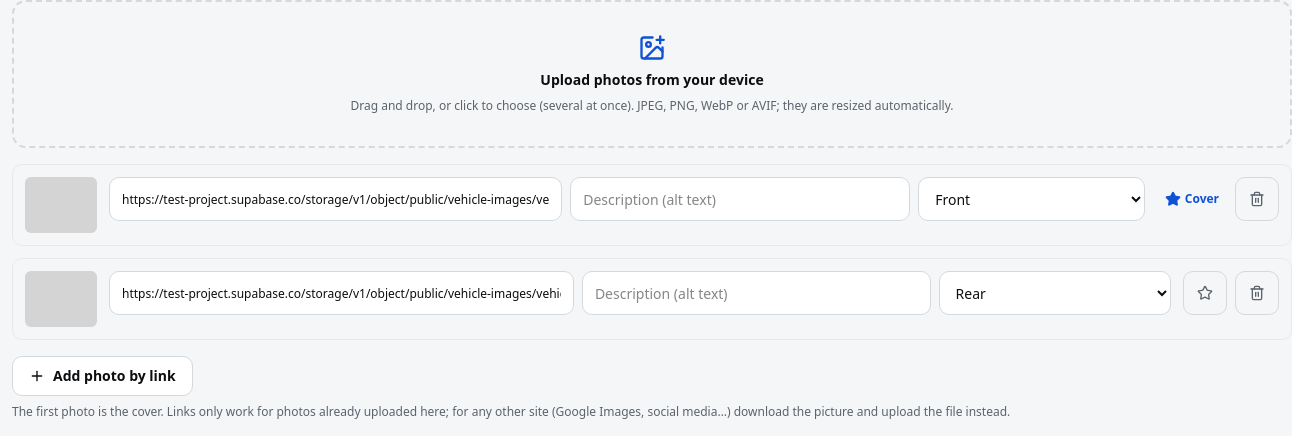
Test: ImagesField (photos) › removes a photo row
Click the button named "Remove photo 2" at x=1257, y=293, box [1235, 271, 1279, 315]
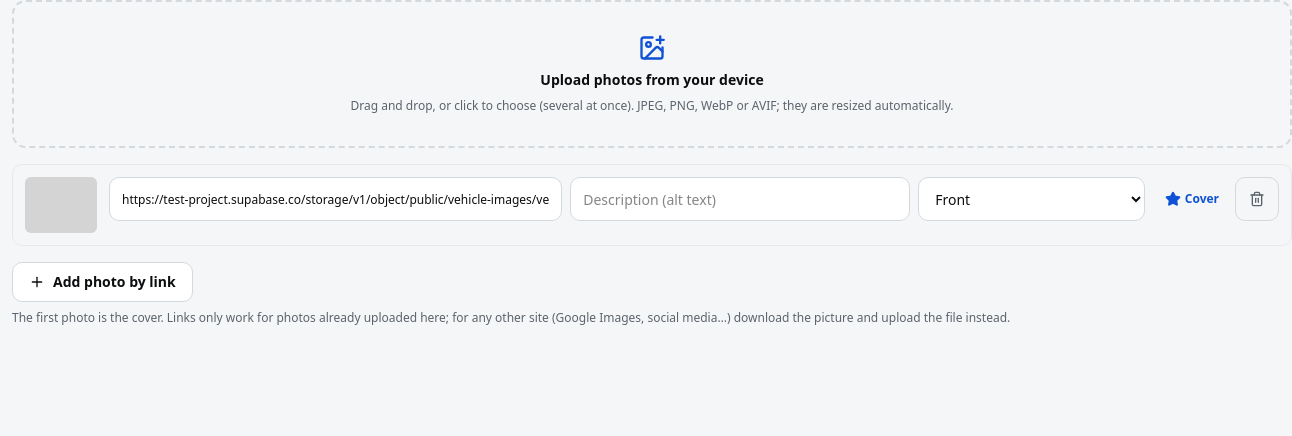
Expected: the number of fields named "Photo 1 URL" is 1, [109, 177, 562, 221]
